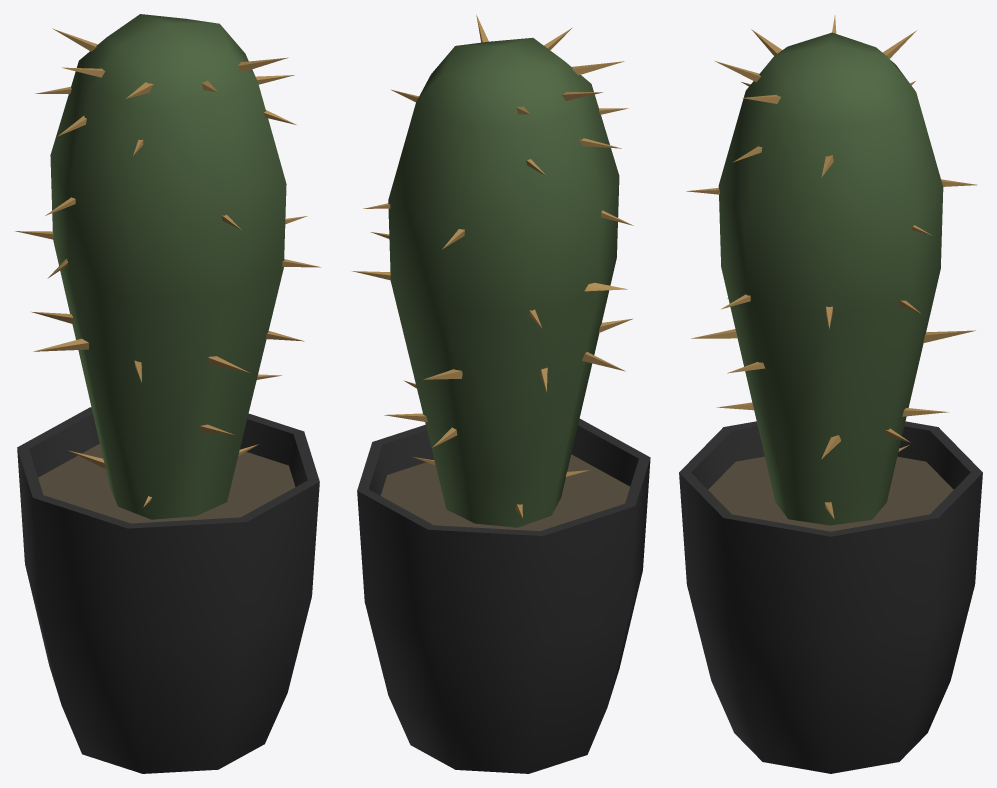
The model's file is cactus.glb.
The picture shows the model from 3 angles, left to right: view 1: azimuth 30°, elevation 25°; view 2: azimuth 150°, elevation 25°; view 3: azimuth 270°, elevation 25°; orthographic projection. The views are drawn at different scales.
Visible parts, largest first — view 1: Houseplant_3; view 2: Houseplant_3; view 3: Houseplant_3.
Boxes of the visible parts, x1,y1,x2,y2 form: Houseplant_3: [15, 14, 320, 773]; Houseplant_3: [352, 14, 650, 773]; Houseplant_3: [679, 15, 982, 773].
Size of the model in its own units: 0.3426 by 0.8449 by 0.3383.
